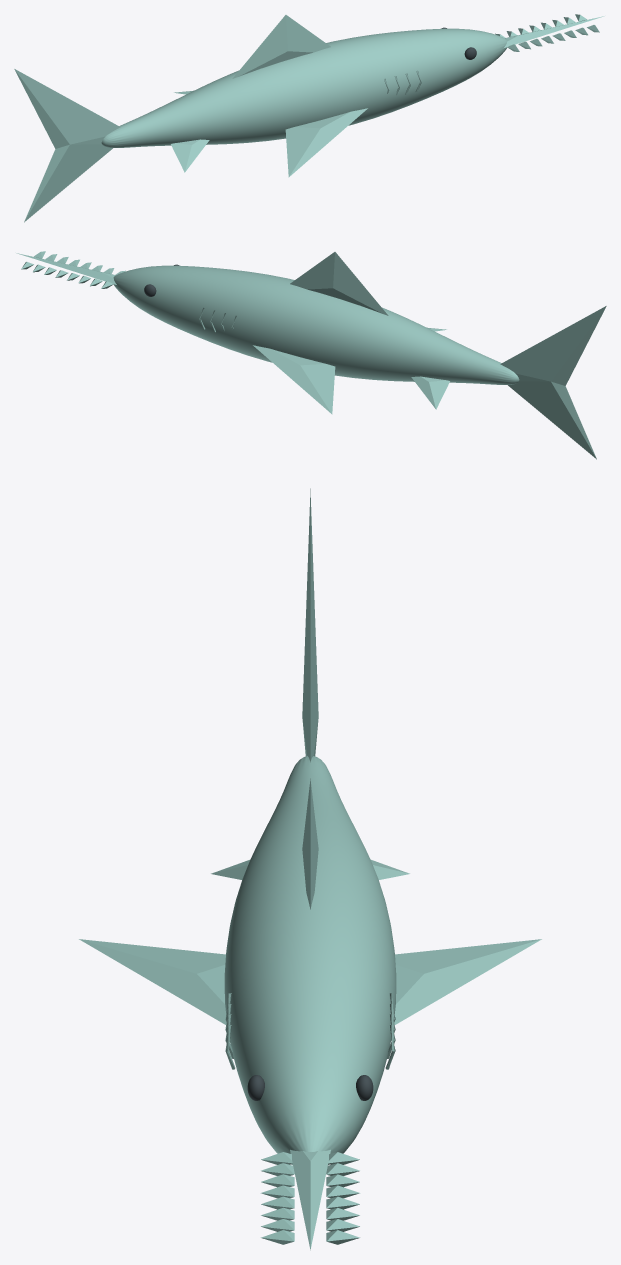
3 views of the same model, one above another, from view 1: azimuth 30°, elevation 25°; view 2: azimuth 150°, elevation 25°; view 3: azimuth 270°, elevation 25° (orthographic). The views are drawn at different scales.
Parts seen in each view (by area): view 1: Body, Tail, Dorsal, Pectoral, Pelvic, Rostrum; view 2: Body, Tail, Dorsal, Pectoral.001, Pelvic.001, Rostrum; view 3: Body, Pectoral.001, Pectoral, Tail, Rostrum, Dorsal.
Part boxes in pixels (x1=…): Body: x1=101, y1=28, x2=507, y2=147; Tail: x1=14, y1=69, x2=120, y2=222; Dorsal: x1=232, y1=15, x2=330, y2=78; Pectoral: x1=285, y1=108, x2=367, y2=177; Pelvic: x1=171, y1=139, x2=209, y2=172; Rostrum: x1=504, y1=16, x2=604, y2=47; Body: x1=113, y1=265, x2=519, y2=384; Tail: x1=500, y1=306, x2=606, y2=459; Dorsal: x1=290, y1=252, x2=388, y2=315; Pectoral.001: x1=253, y1=345, x2=335, y2=414; Pelvic.001: x1=411, y1=376, x2=449, y2=409; Rostrum: x1=16, y1=253, x2=116, y2=284; Body: x1=224, y1=756, x2=396, y2=1164; Pectoral.001: x1=394, y1=939, x2=541, y2=1024; Pectoral: x1=79, y1=939, x2=226, y2=1024; Tail: x1=302, y1=488, x2=318, y2=762; Rostrum: x1=290, y1=1149, x2=330, y2=1250; Dorsal: x1=302, y1=778, x2=318, y2=909.
Size of the model in its own units: 301 by 76 by 102.
